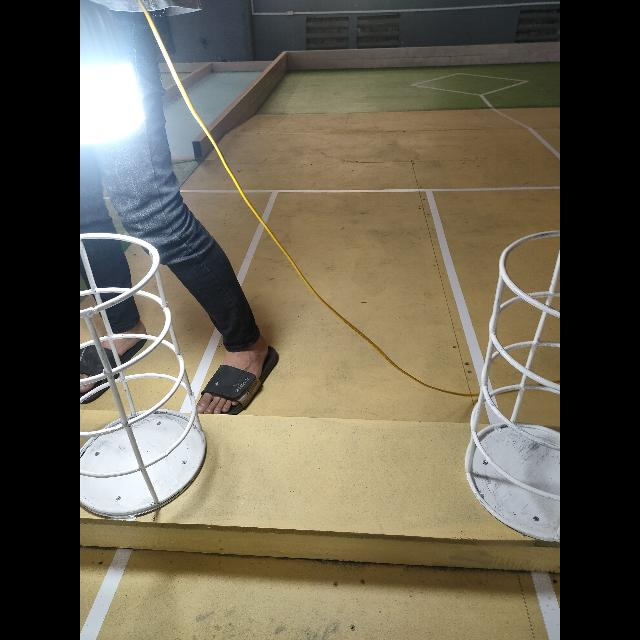S: (80, 230, 211, 521), (459, 225, 560, 550)
